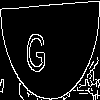G: (25, 24, 46, 73)
